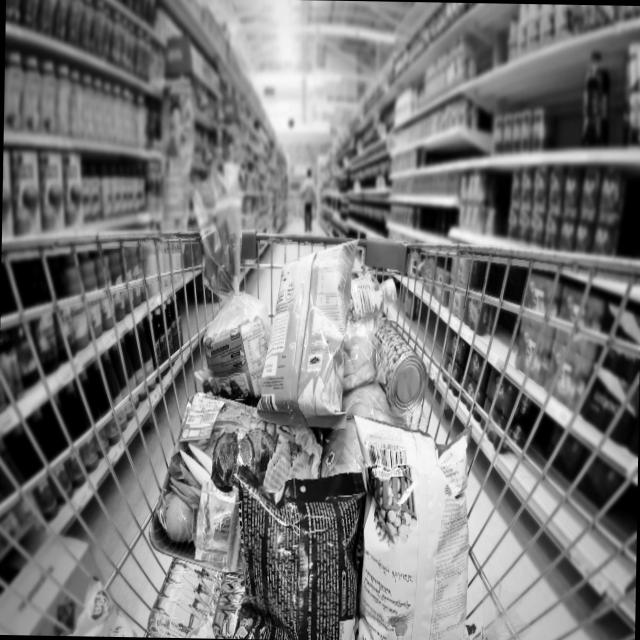banh mi: (188, 194, 275, 396)
dau: (335, 256, 401, 320)
